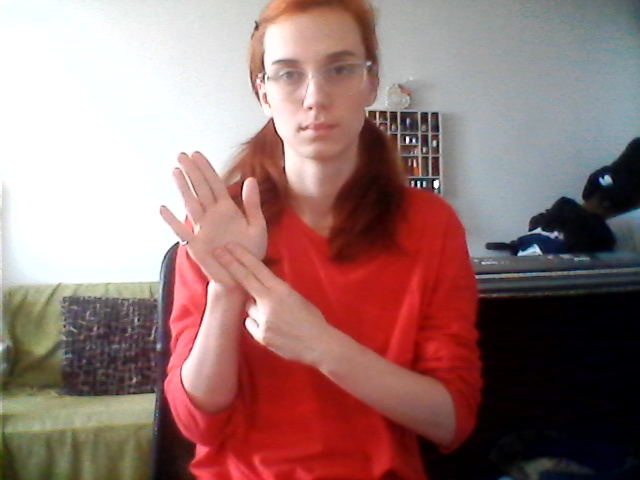n: (140, 146, 314, 356)
